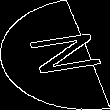N_E: (9, 30, 101, 80)
